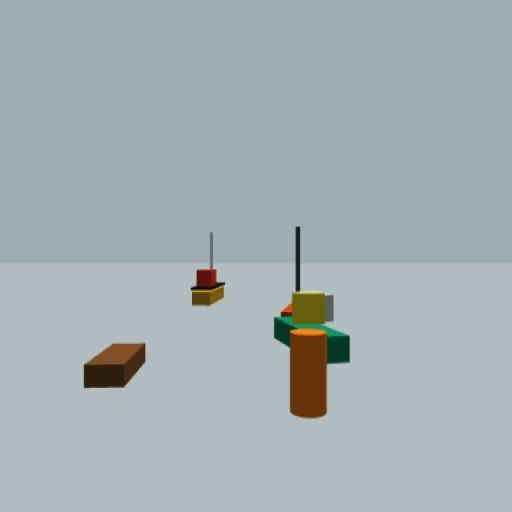buoy: (290, 291, 328, 416)
debris_container: (84, 342, 146, 392)
vessel: (191, 230, 224, 306)
